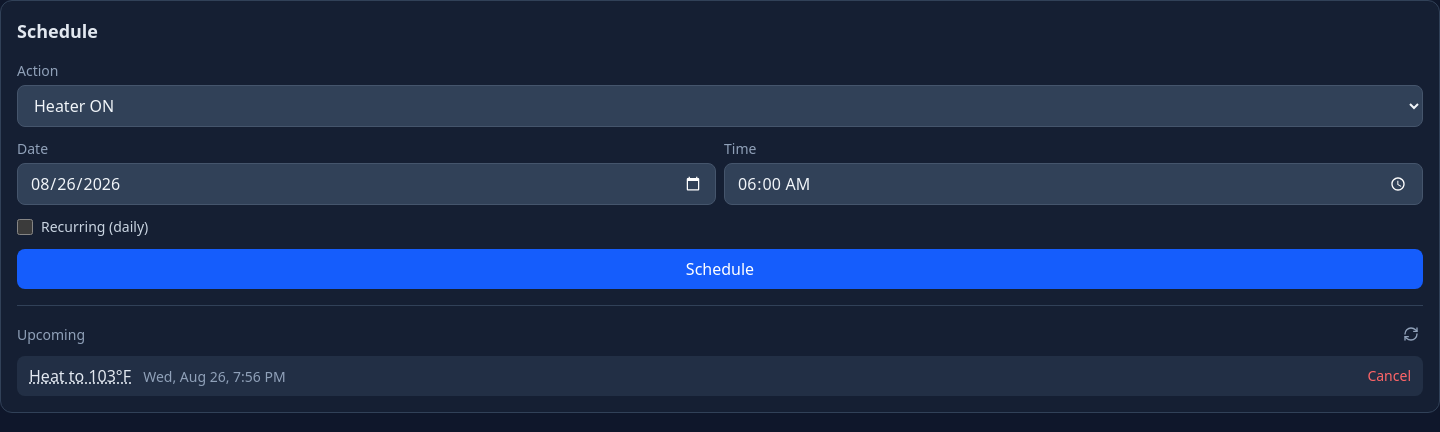
Test: SchedulePanel inline temperature editing › cancels on Escape
Click the button with test id "editable-temp" at (80, 376), box [29,364,131,388]
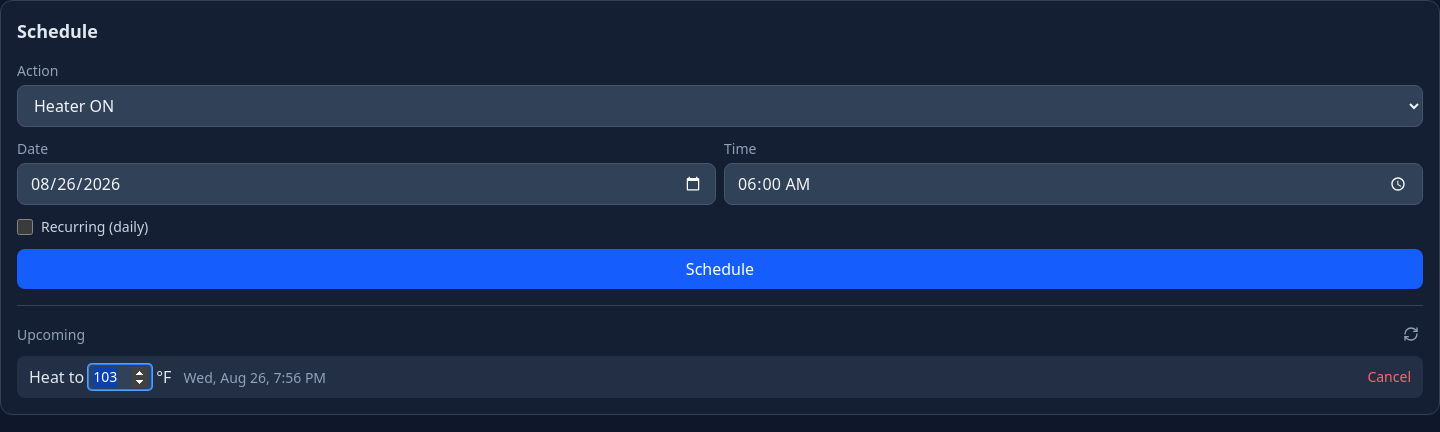
Check: the number field with test id "edit-temp-input" is shown
Press Escape in the number field with test id "edit-temp-input", box [88,364,152,390]
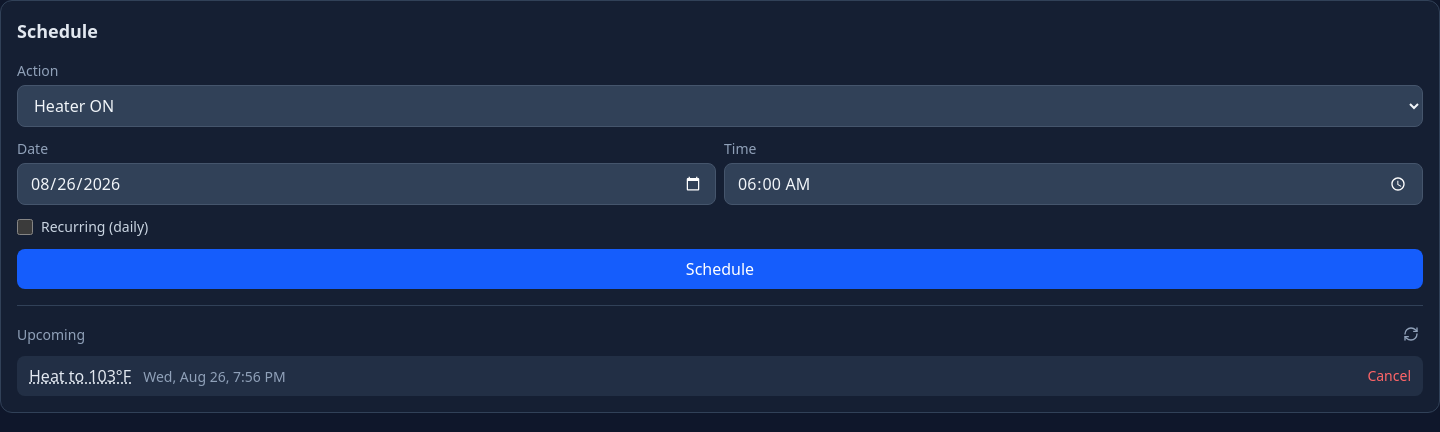
Check: the button with test id "editable-temp" is shown, box [29,364,131,388]
Check: the number field with test id "edit-temp-input" is gone
